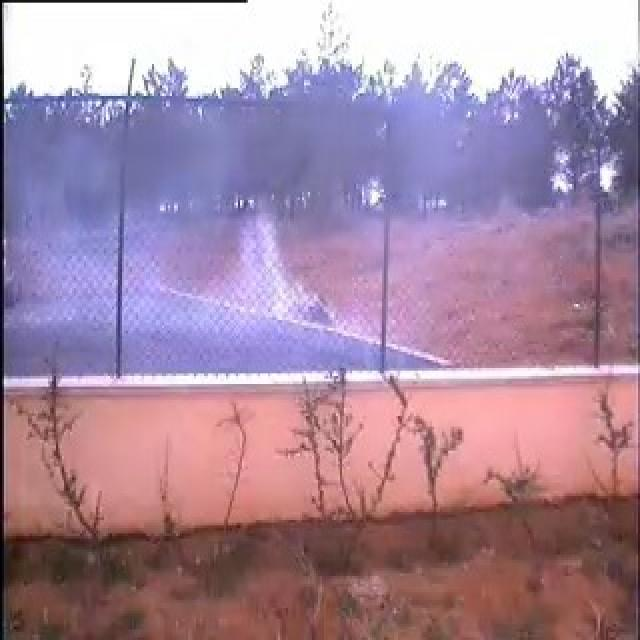smoke: (120, 103, 392, 375)
